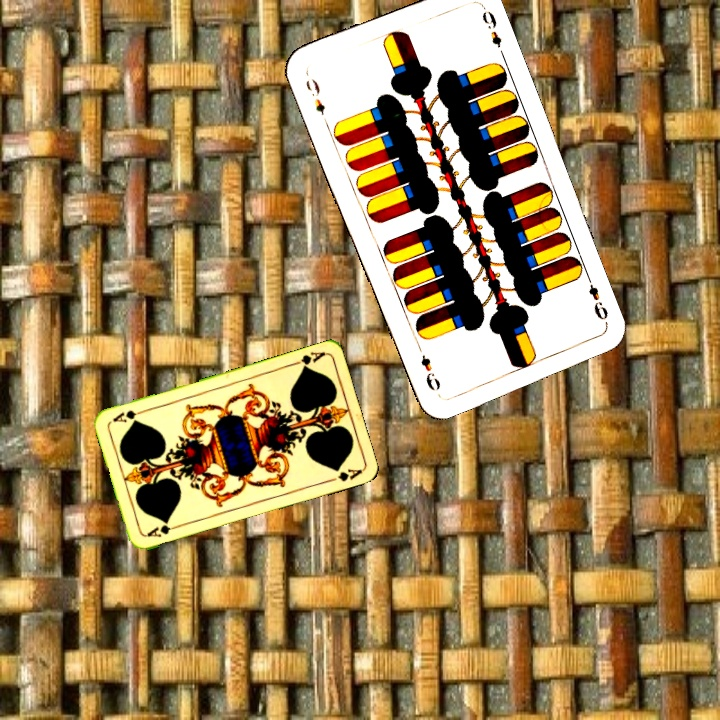E9: (582, 271, 611, 323), (301, 74, 328, 118)
GA: (287, 348, 327, 372), (143, 519, 182, 540)
